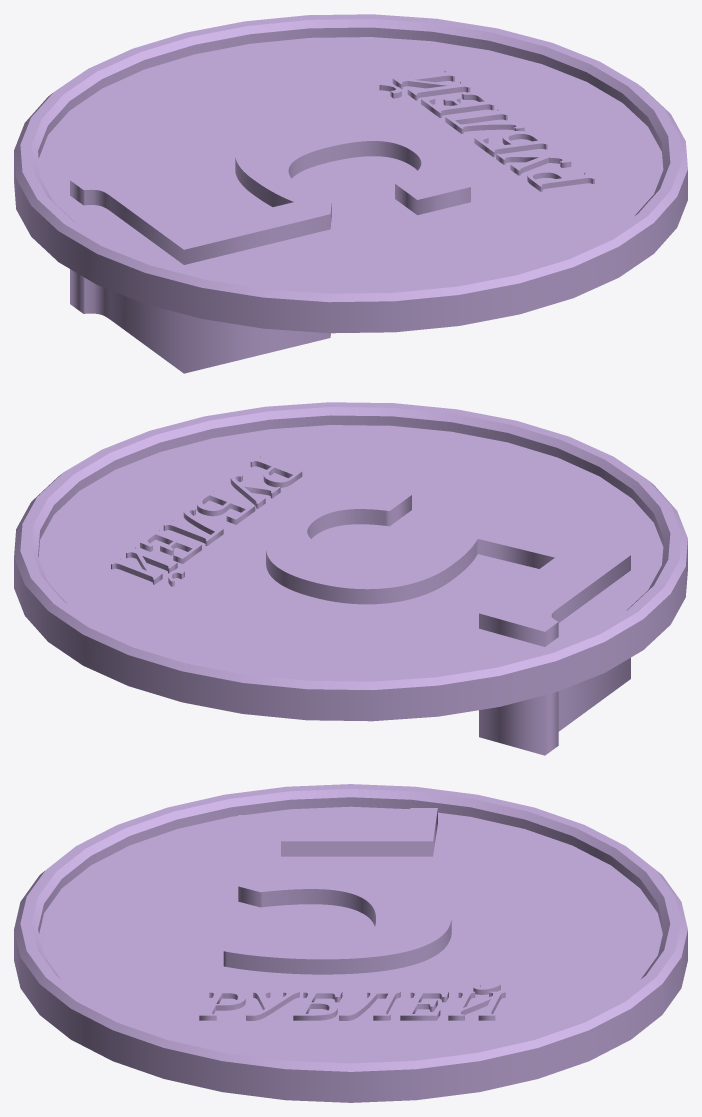
The model's file is 5 рублей.fbx.
3 views of the same model, one above another, from view 1: azimuth 30°, elevation 25°; view 2: azimuth 150°, elevation 25°; view 3: azimuth 270°, elevation 25° (orthographic).
Visible parts, largest first — view 1: Окружность.003, Текст.006, Текст.007; view 2: Окружность.003, Текст.006, Текст.007; view 3: Окружность.003, Текст.006, Текст.007.
Part boxes in pixels (x1,y1,x2,y2): Окружность.003: (14, 14, 687, 333); Текст.006: (70, 114, 470, 373); Текст.007: (379, 70, 594, 191); Окружность.003: (14, 402, 687, 721); Текст.006: (266, 481, 630, 755); Текст.007: (111, 455, 302, 586); Окружность.003: (14, 784, 687, 1102); Текст.006: (223, 808, 451, 974); Текст.007: (199, 983, 505, 1020).
Bounding box in the file's own units: 136 × 27.44 × 136.
